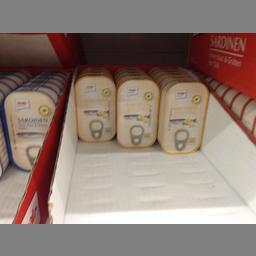fish: (1, 86, 54, 170), (157, 78, 208, 156), (72, 74, 117, 142), (116, 78, 158, 148)
